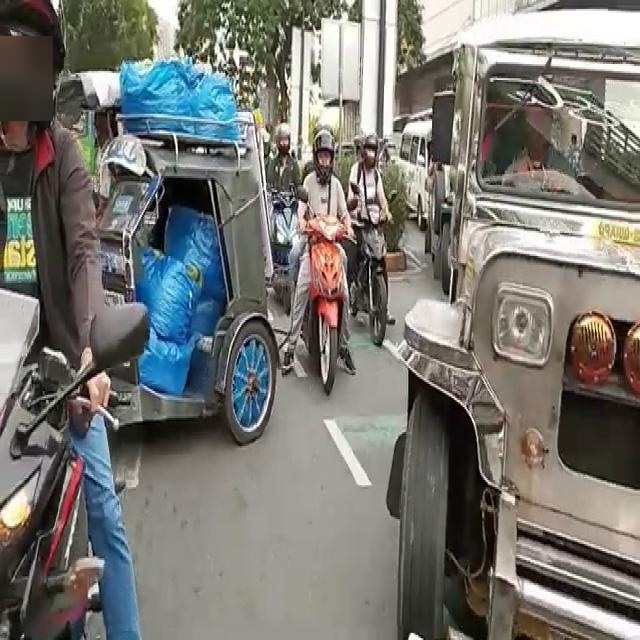jeepney: (399, 58, 640, 591)
motorcycle: (0, 33, 101, 635), (76, 137, 262, 443), (296, 147, 349, 407), (351, 142, 389, 342), (264, 129, 298, 310)
